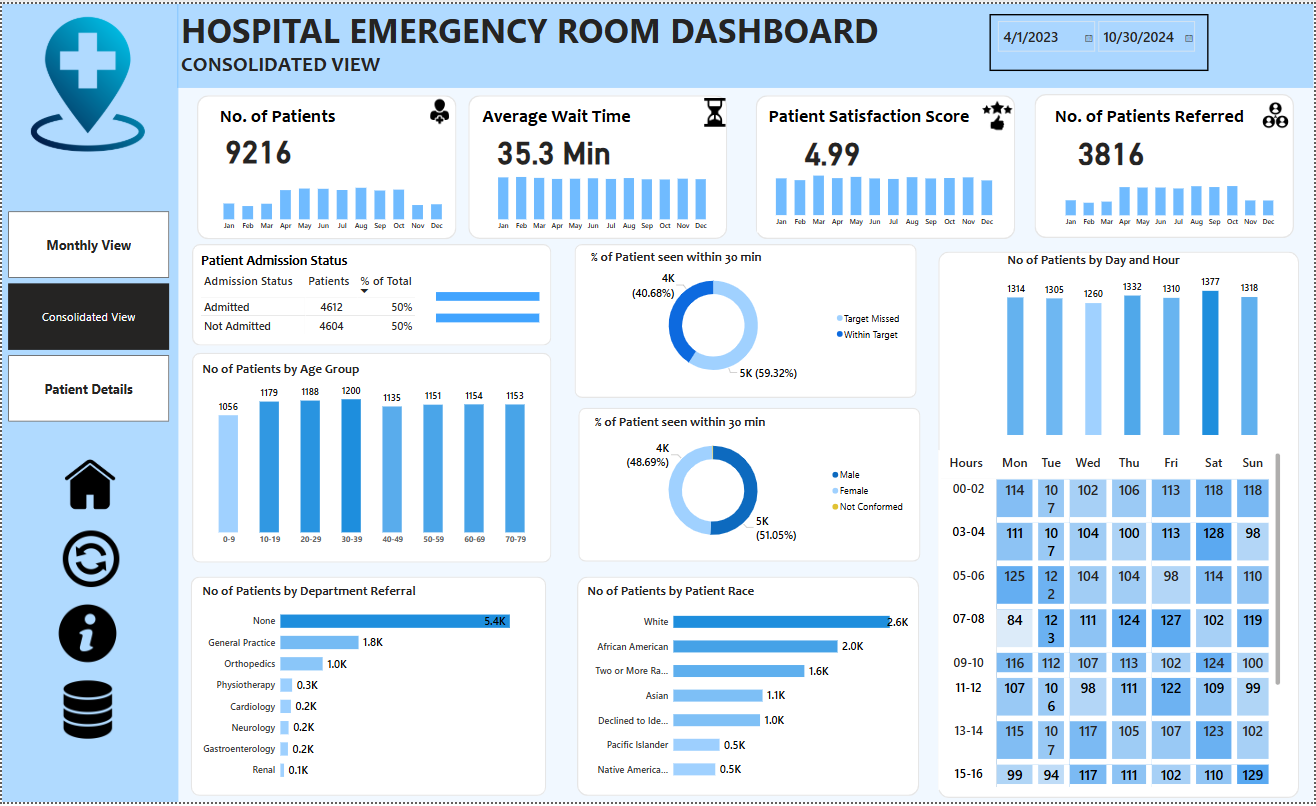

What the dashboard file says about the page in this screenshot:
{"tool":"powerbi","page":{"name":"Consolidated View","canvas":[2300,1400],"ordinal":1},"visuals":[{"type":"shape","box":[0,0,309.3,1400],"z":0},{"type":"shape","box":[307.5,0,1992.5,147.5],"z":1000},{"type":"textbox","box":[310,0,1250,117.5],"z":2000},{"type":"shape","box":[342.5,160,455,252.5],"z":3000},{"type":"textbox","box":[308,76,510,84],"z":4000},{"type":"card","fields":{"Values":["Hospital ER_Data.No of Patients"]},"box":[377.5,215,145,75],"z":5000},{"type":"slicer","fields":{"Values":["Date Table.Date"]},"box":[1732,18,384,100],"z":6000},{"type":"shape","box":[818,160,454,252],"z":7000},{"type":"textbox","box":[837.5,170,287.5,50],"z":8000},{"type":"columnChart","fields":{"Category":["Date Table.Month Name"],"Y":["Hospital ER_Data.No of Patients"]},"box":[355,282.5,430,125],"z":9000},{"type":"shape","box":[1320.8,159.3,455,252],"z":10000},{"type":"shape","box":[1810,157.5,455,252.5],"z":11000},{"type":"card","fields":{"Values":["Hospital ER_Data.Avg wait time"]},"box":[858,216,222,74],"z":12000},{"type":"textbox","box":[377.5,170,222.5,50],"z":13000},{"type":"columnChart","fields":{"Category":["Date Table.Month Name"],"Y":["Avg(Hospital ER_Data.Patient Waittime)"]},"box":[837.5,282.5,410,125],"z":14000},{"type":"textbox","box":[1340,170,392.5,50],"z":15000},{"type":"columnChart","fields":{"Category":["Date Table.Month Name"],"Y":["Hospital ER_Data.Satisfaction score"]},"box":[1324,278,426,122],"z":16000},{"type":"card","fields":{"Values":["Hospital ER_Data.Satisfaction score"]},"box":[1352.5,220,207.5,75],"z":17000},{"type":"textbox","box":[1840,170,392.5,50],"z":18000},{"type":"card","fields":{"Values":["Hospital ER_Data.No of patients referred"]},"box":[1840,220,207.5,75],"z":19000},{"type":"columnChart","fields":{"Category":["Date Table.Month Name"],"Y":["Hospital ER_Data.No of patients referred"]},"box":[1832,282,410,118],"z":20000},{"type":"shape","box":[334,420,630,178],"z":21000},{"type":"pivotTable","title":"Patient Admission Status","fields":{"Rows":["Hospital ER_Data.Admission status"],"Values":["Hospital ER_Data.No of Patients1","Hospital ER_Data.No of Patients"]},"box":[344.8,434.4,606,164],"z":22000},{"type":"barChart","fields":{"Category":["Hospital ER_Data.Admission status"],"Y":["Hospital ER_Data.No of Patients"]},"box":[756.8,472.8,246,112],"z":23000},{"type":"shape","box":[332.4,610.8,630,368],"z":24000},{"type":"clusteredColumnChart","fields":{"Category":["Hospital ER_Data.Age Group"],"Y":["Hospital ER_Data.No of Patients"]},"box":[346.4,624.8,606,334],"z":25000},{"type":"shape","box":[330.8,1003.1,623.1,384.6],"z":26000},{"type":"clusteredBarChart","fields":{"Category":["Hospital ER_Data.Department Referral"],"Y":["Hospital ER_Data.No of Patients"]},"box":[346.2,1015.4,580,361.5],"z":27000},{"type":"shape","box":[1004,420,600,270],"z":28000},{"type":"donutChart","title":"% of Patient seen within 30 min","fields":{"Category":["Hospital ER_Data.Waittime Status"],"Y":["Hospital ER_Data.No of Patients"]},"box":[1028.3,430,560,240],"z":29000},{"type":"shape","box":[1010,708.7,600,270],"z":30000},{"type":"donutChart","title":"% of Patient seen within 30 min","fields":{"Y":["Hospital ER_Data.No of Patients"],"Category":["Hospital ER_Data.Patient Gender"]},"box":[1034.3,718.7,560,240],"z":31000},{"type":"shape","box":[1007.7,1003.1,600,384.6],"z":32000},{"type":"clusteredBarChart","fields":{"Y":["Hospital ER_Data.No of Patients"],"Category":["Hospital ER_Data.Patient Race"]},"box":[1021.5,1015.4,572.3,361.5],"z":33000},{"type":"shape","box":[1641.9,434.9,632.6,958.1],"z":34000},{"type":"pivotTable","fields":{"Rows":["Hospital ER_Data.Waittime Interval"],"Columns":["Date Table.Day Name"],"Values":["Hospital ER_Data.No of Patients"]},"box":[1641.9,781.4,604.7,595.3],"z":35000},{"type":"columnChart","title":"No of Patients by Day and Hour","fields":{"Category":["Date Table.Day Name"],"Y":["Hospital ER_Data.No of Patients"]},"box":[1758.1,434.9,451.2,327.9],"z":36000},{"type":"image","box":[739.5,155.8,58.1,65.1],"z":37000},{"type":"image","box":[1146.5,160.5,207,60.5],"z":38000},{"type":"image","box":[1714,148.8,62.8,93],"z":39000},{"type":"image","box":[2204.7,155.8,55.8,79.1],"z":40000},{"type":"image","box":[0,18.6,300,246.5],"z":41000},{"type":"pageNavigator","box":[12,364,282,370],"z":42000},{"type":"image","box":[0,794.2,309.1,97.5],"z":42001},{"type":"image","box":[0,1179.4,299.6,116.5],"z":42002},{"type":"image","box":[0,1046.2,299.6,116.5],"z":42003},{"type":"image","box":[7.1,917.8,299.6,109.4],"z":42004}]}

Visuals, with their boxes in screenshot pixels (x1, y1, x2, y2), scaled from the page's 2300x1400 canvas onto the 1316x806 screenshot:
shape: Rect(0, 0, 177, 805)
shape: Rect(176, 0, 1315, 85)
textbox: Rect(177, 0, 893, 68)
shape: Rect(196, 92, 456, 237)
textbox: Rect(176, 44, 468, 92)
card - Hospital ER_Data.No of Patients: Rect(216, 124, 299, 167)
slicer - Date Table.Date: Rect(991, 10, 1211, 68)
shape: Rect(468, 92, 728, 237)
textbox: Rect(479, 98, 644, 127)
columnChart - Date Table.Month Name x Hospital ER_Data.No of Patients: Rect(203, 163, 449, 235)
shape: Rect(756, 92, 1016, 237)
shape: Rect(1036, 91, 1296, 236)
card - Hospital ER_Data.Avg wait time: Rect(491, 124, 618, 167)
textbox: Rect(216, 98, 343, 127)
columnChart - Date Table.Month Name x Avg(Hospital ER_Data.Patient Waittime): Rect(479, 163, 714, 235)
textbox: Rect(767, 98, 991, 127)
columnChart - Date Table.Month Name x Hospital ER_Data.Satisfaction score: Rect(758, 160, 1001, 230)
card - Hospital ER_Data.Satisfaction score: Rect(774, 127, 893, 170)
textbox: Rect(1053, 98, 1277, 127)
card - Hospital ER_Data.No of patients referred: Rect(1053, 127, 1172, 170)
columnChart - Date Table.Month Name x Hospital ER_Data.No of patients referred: Rect(1048, 162, 1283, 230)
shape: Rect(191, 242, 552, 344)
"Patient Admission Status" pivotTable: Rect(197, 250, 544, 345)
barChart - Hospital ER_Data.Admission status x Hospital ER_Data.No of Patients: Rect(433, 272, 574, 337)
shape: Rect(190, 352, 551, 564)
clusteredColumnChart - Hospital ER_Data.Age Group x Hospital ER_Data.No of Patients: Rect(198, 360, 545, 552)
shape: Rect(189, 577, 546, 799)
clusteredBarChart - Hospital ER_Data.Department Referral x Hospital ER_Data.No of Patients: Rect(198, 585, 530, 793)
shape: Rect(574, 242, 918, 397)
"% of Patient seen within 30 min" donutChart: Rect(588, 248, 909, 386)
shape: Rect(578, 408, 921, 563)
"% of Patient seen within 30 min" donutChart: Rect(592, 414, 912, 552)
shape: Rect(577, 577, 920, 799)
clusteredBarChart - Hospital ER_Data.No of Patients x Hospital ER_Data.Patient Race: Rect(584, 585, 912, 793)
shape: Rect(939, 250, 1301, 802)
pivotTable - Hospital ER_Data.Waittime Interval x Date Table.Day Name: Rect(939, 450, 1285, 793)
"No of Patients by Day and Hour" columnChart: Rect(1006, 250, 1264, 439)
image: Rect(423, 90, 456, 127)
image: Rect(656, 92, 774, 127)
image: Rect(981, 86, 1017, 139)
image: Rect(1261, 90, 1293, 135)
image: Rect(0, 11, 172, 153)
pageNavigator: Rect(7, 210, 168, 423)
image: Rect(0, 457, 177, 513)
image: Rect(0, 679, 171, 746)
image: Rect(0, 602, 171, 669)
image: Rect(4, 528, 175, 591)
